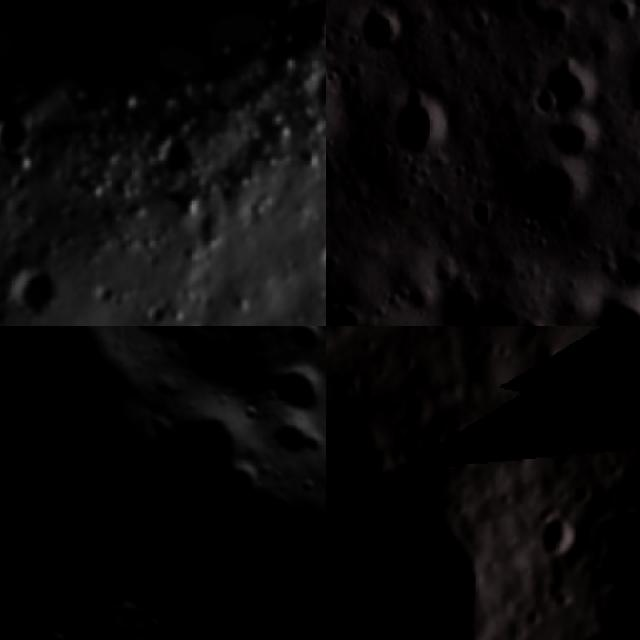crater: (392, 93, 464, 160), (262, 352, 326, 425), (528, 505, 592, 576), (3, 263, 70, 326), (527, 154, 584, 217), (469, 405, 526, 462), (269, 413, 324, 469), (543, 64, 605, 106), (365, 0, 405, 65), (541, 118, 607, 153), (142, 140, 193, 182), (584, 289, 640, 326), (104, 593, 149, 634), (443, 284, 484, 326), (0, 115, 33, 166), (326, 67, 341, 172), (143, 407, 181, 446), (282, 326, 326, 359), (623, 54, 640, 129), (302, 69, 326, 120), (134, 610, 174, 640), (326, 300, 372, 326), (368, 141, 405, 169), (468, 197, 499, 230), (606, 0, 640, 25), (241, 326, 285, 345), (536, 7, 569, 32), (617, 251, 640, 285), (529, 91, 558, 114), (508, 315, 568, 326), (624, 198, 640, 234), (314, 473, 326, 521), (595, 258, 615, 281), (184, 326, 233, 333), (350, 30, 361, 56)
